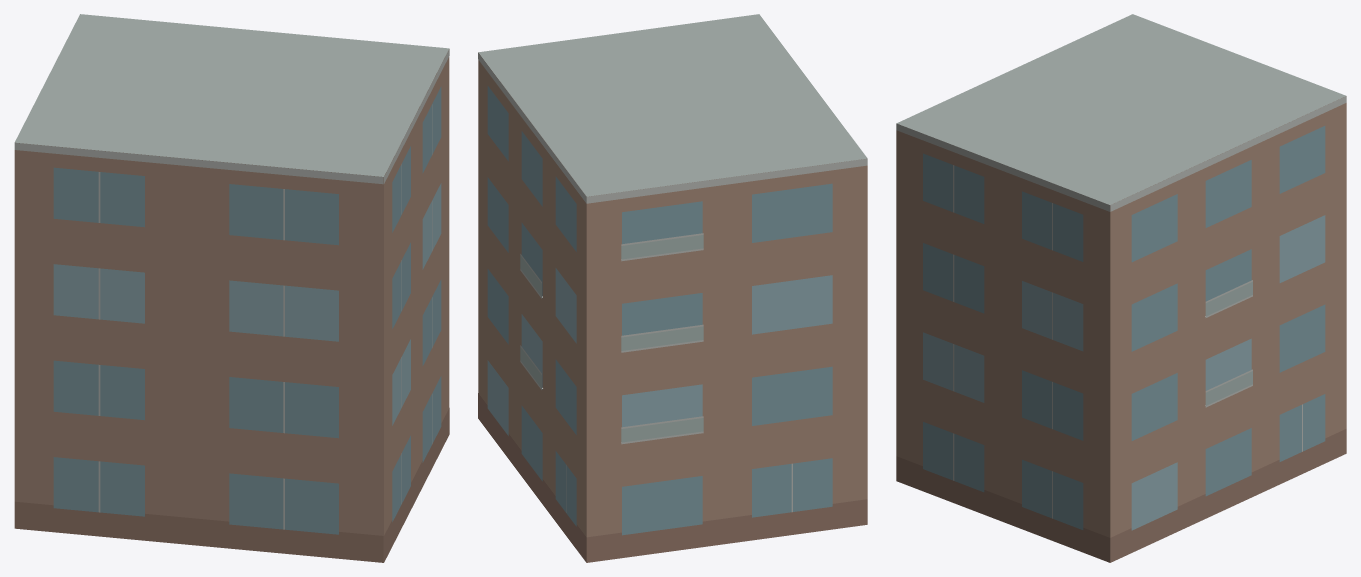
Rendered from survey-upis-32661399.glb.
3 renders of one model, left to right at view 1: azimuth 30°, elevation 25°; view 2: azimuth 150°, elevation 25°; view 3: azimuth 270°, elevation 25°, orthographic. The views are drawn at different scales.
Parts seen in each view (by area): view 1: survey-upis-32661399.tmp; view 2: survey-upis-32661399.tmp; view 3: survey-upis-32661399.tmp.
Part boxes in pixels (x1,y1,x2,y2): survey-upis-32661399.tmp: [14, 14, 449, 562]; survey-upis-32661399.tmp: [478, 14, 867, 562]; survey-upis-32661399.tmp: [896, 14, 1346, 562].
Bounding box in the file's own units: 14.68 × 12.8 × 14.61.
